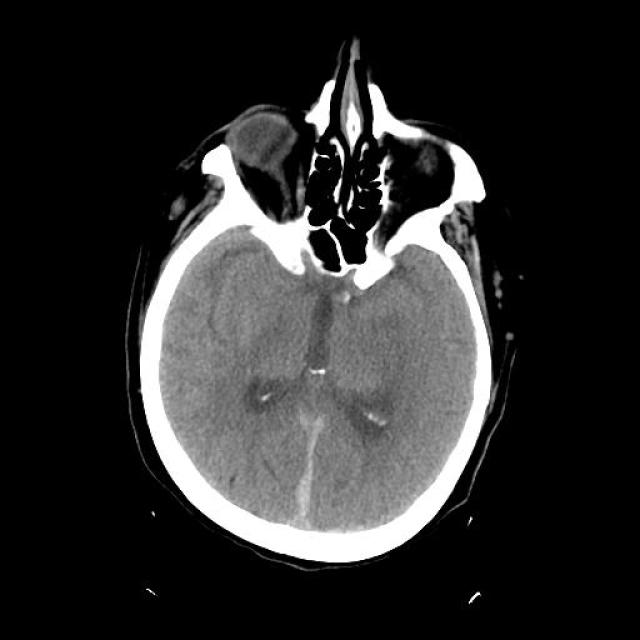Subdural: (278, 406, 336, 544)
